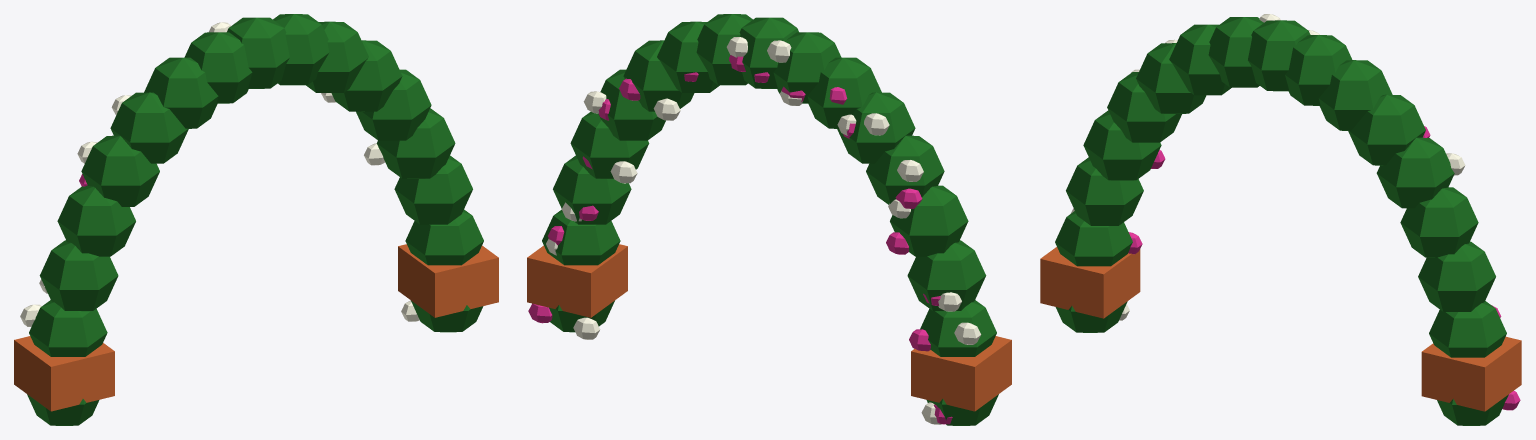
File: env_pbg_orchid_arch.fbx
3 views of the same model, side by side, from view 1: azimuth 30°, elevation 25°; view 2: azimuth 150°, elevation 25°; view 3: azimuth 330°, elevation 25° (orthographic).
Parts seen in each view (by area): view 1: env_pbg_orchid_arch_geo_LOD0; view 2: env_pbg_orchid_arch_geo_LOD0; view 3: env_pbg_orchid_arch_geo_LOD0.
Boxes of the visible parts, bbox=[...] form: env_pbg_orchid_arch_geo_LOD0: bbox=[14, 14, 498, 425]; env_pbg_orchid_arch_geo_LOD0: bbox=[527, 14, 1011, 425]; env_pbg_orchid_arch_geo_LOD0: bbox=[1040, 14, 1521, 425].
Size of what is drawn, in the model's own units: 4.22 by 3.24 by 0.64.
